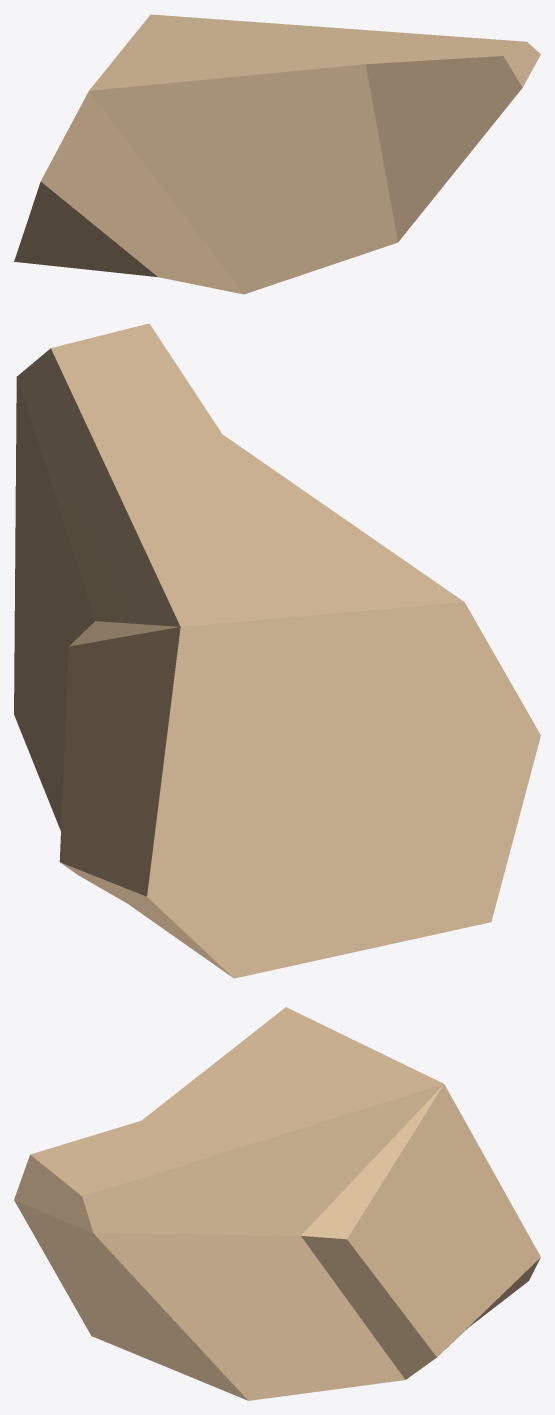
The model's file is stone-pointy.glb.
3 renders of one model, top to bottom at view 1: azimuth 30°, elevation 25°; view 2: azimuth 150°, elevation 25°; view 3: azimuth 270°, elevation 25°, orthographic. The views are drawn at different scales.
Parts seen in each view (by area): view 1: stone-pointy; view 2: stone-pointy; view 3: stone-pointy.
Part boxes in pixels (box(x1,y1,x2,y2)): stone-pointy: box(14, 14, 540, 294); stone-pointy: box(14, 323, 540, 978); stone-pointy: box(14, 1007, 540, 1400).
Bounding box in the file's own units: 1.95 × 1.02 × 1.68.
Materials: 1 (1 with a texture image).
